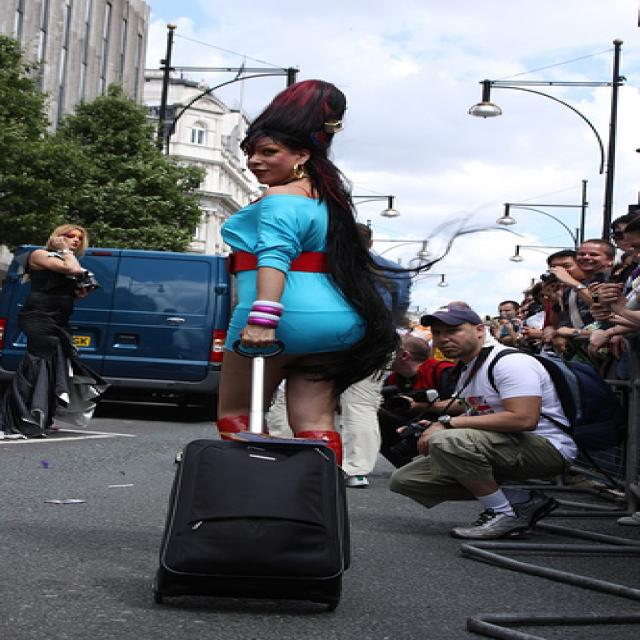Vehicle: (74, 252, 230, 420)
